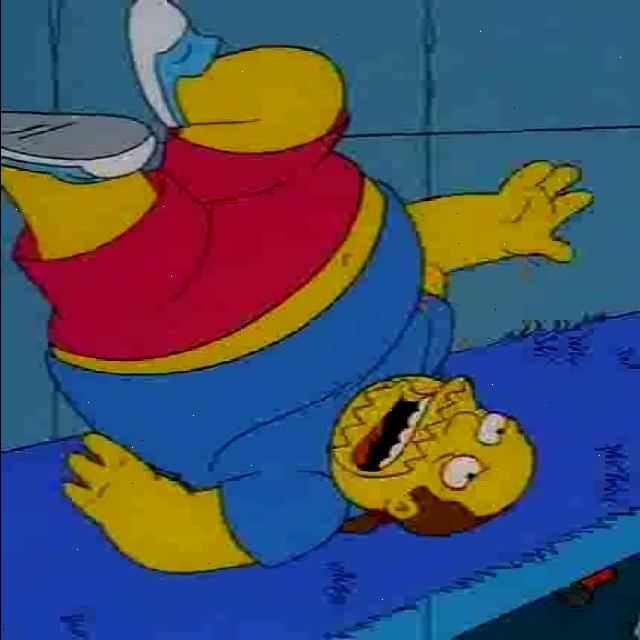Comic Book Guy: (322, 372, 537, 536)
